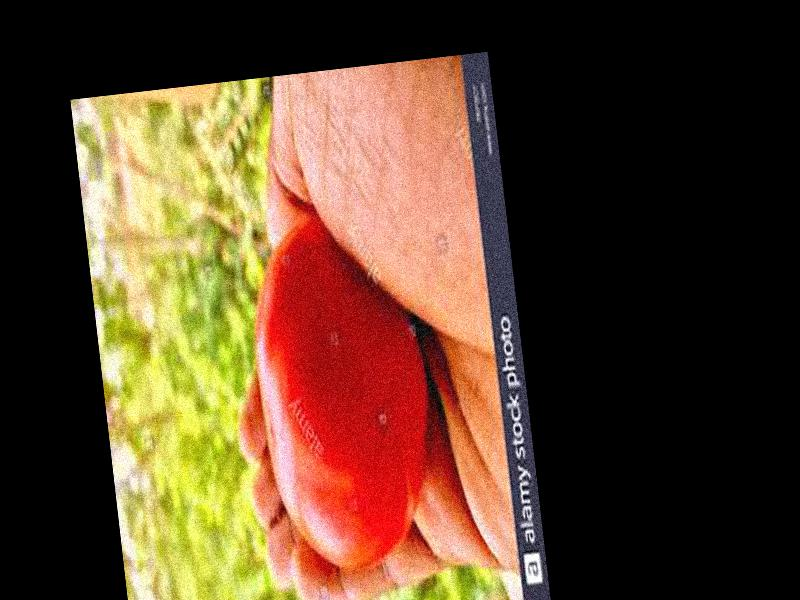Tomato: (243, 213, 445, 575)
